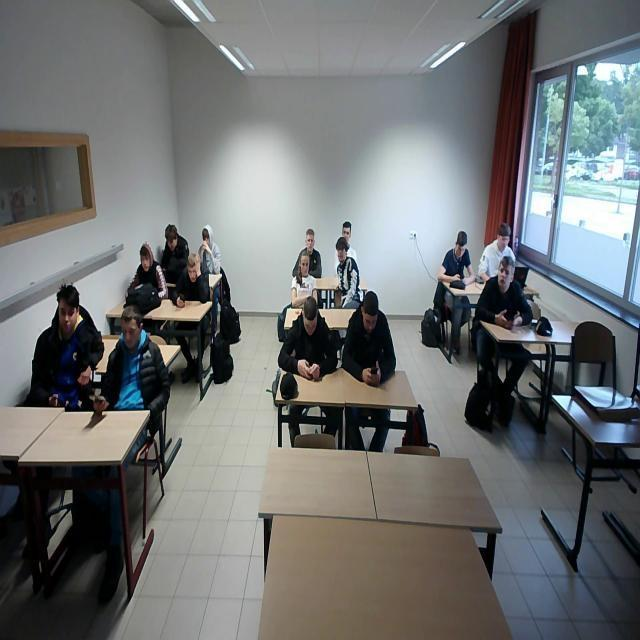phone_use: (100, 304, 168, 433), (341, 290, 394, 384), (277, 296, 336, 378), (436, 230, 473, 287), (172, 253, 209, 305), (160, 224, 187, 282)
